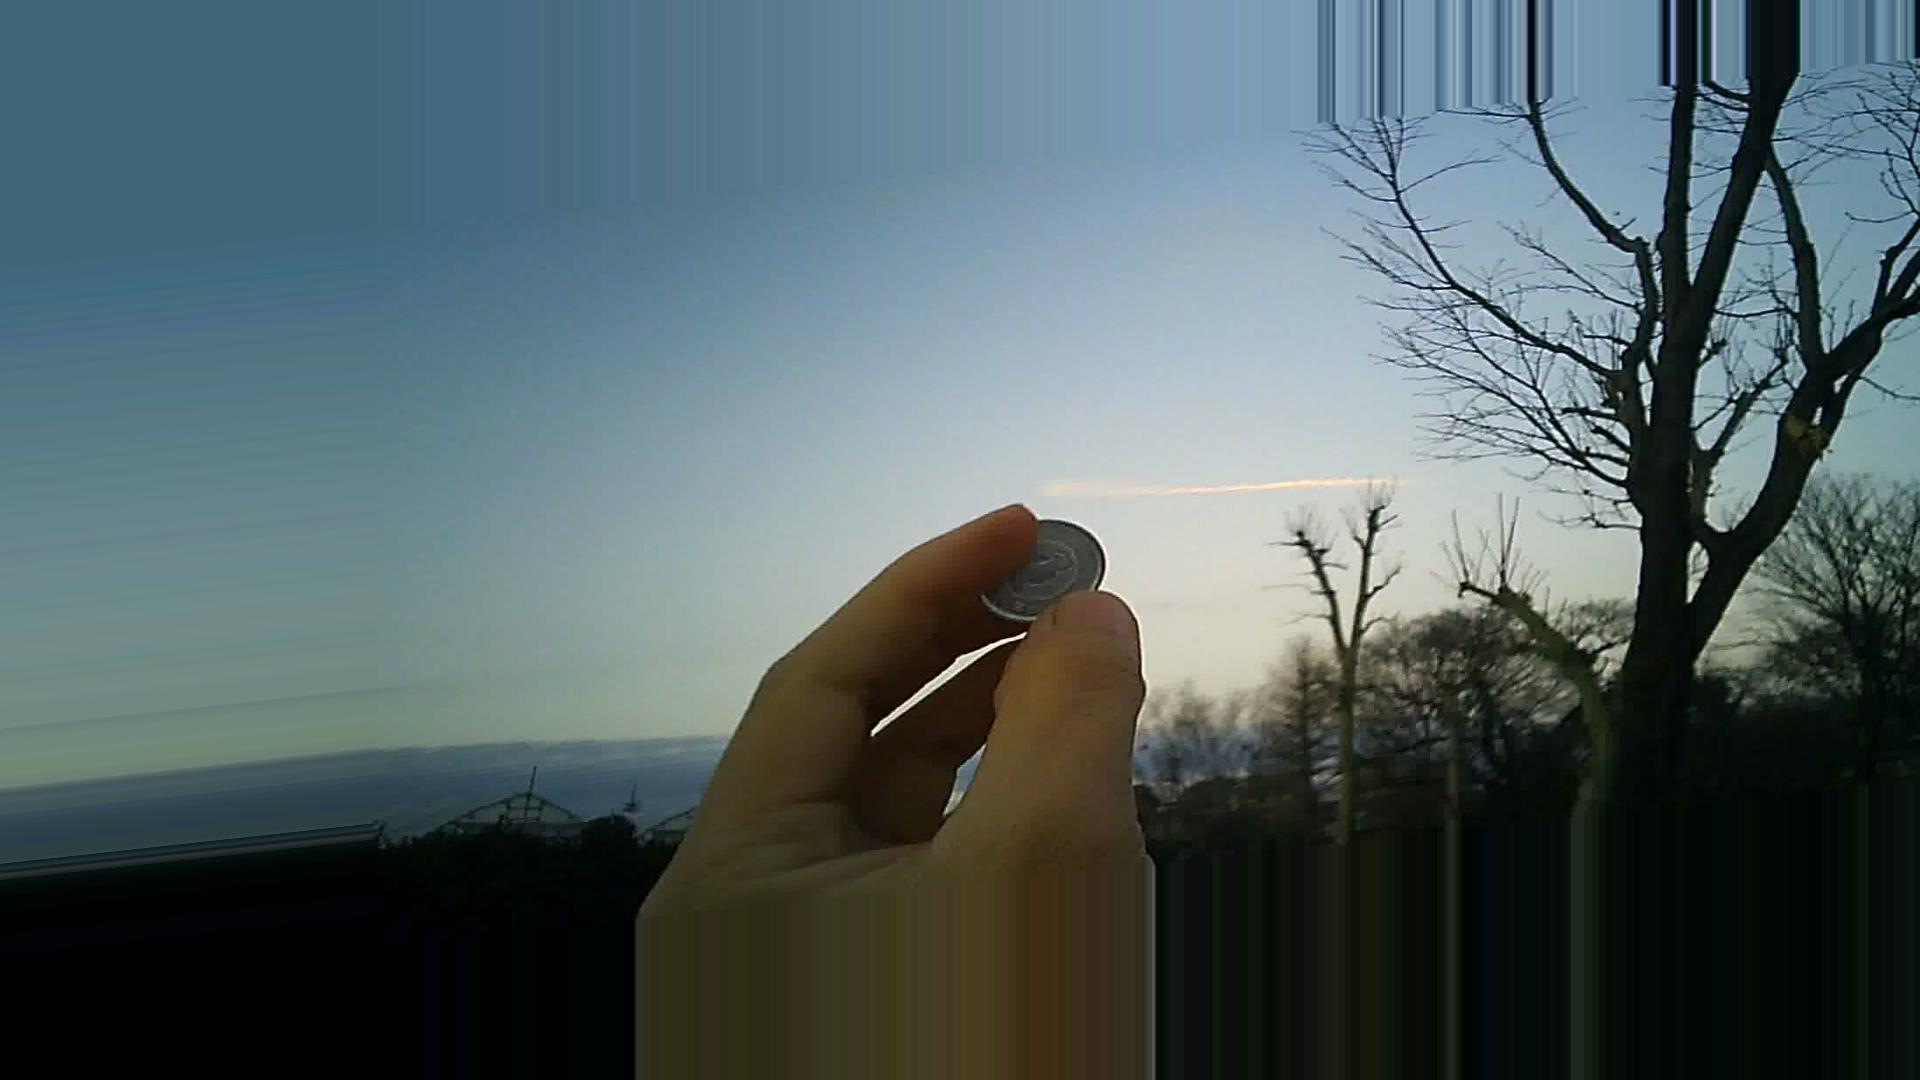1 Yen: (975, 509, 1112, 640)
